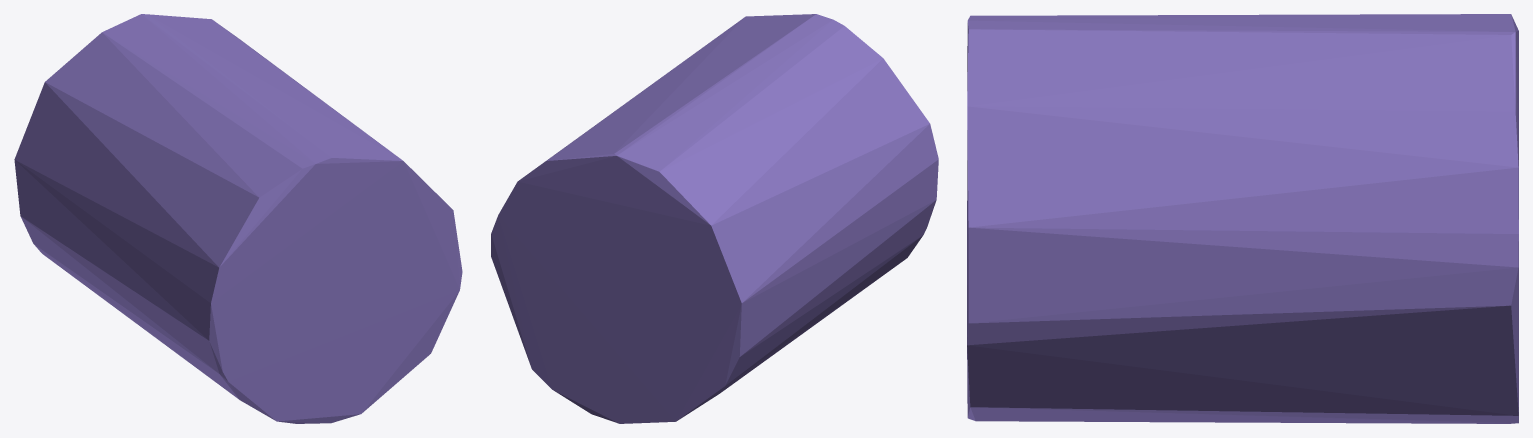
The model's file is food_canned_beans_a02.glb.
The picture shows the model from 3 angles, left to right: view 1: azimuth 30°, elevation 25°; view 2: azimuth 150°, elevation 25°; view 3: azimuth 270°, elevation 25°; orthographic projection. The views are drawn at different scales.
Visible parts, largest first — view 1: geometry_0; view 2: geometry_0; view 3: geometry_0.
Boxes of the visible parts, box(x1,y1,x2,y2) form: geometry_0: box(14, 14, 462, 423); geometry_0: box(491, 14, 938, 423); geometry_0: box(967, 14, 1518, 423).
Size of the model in its own units: 0.3554 by 0.3575 by 0.4789.
